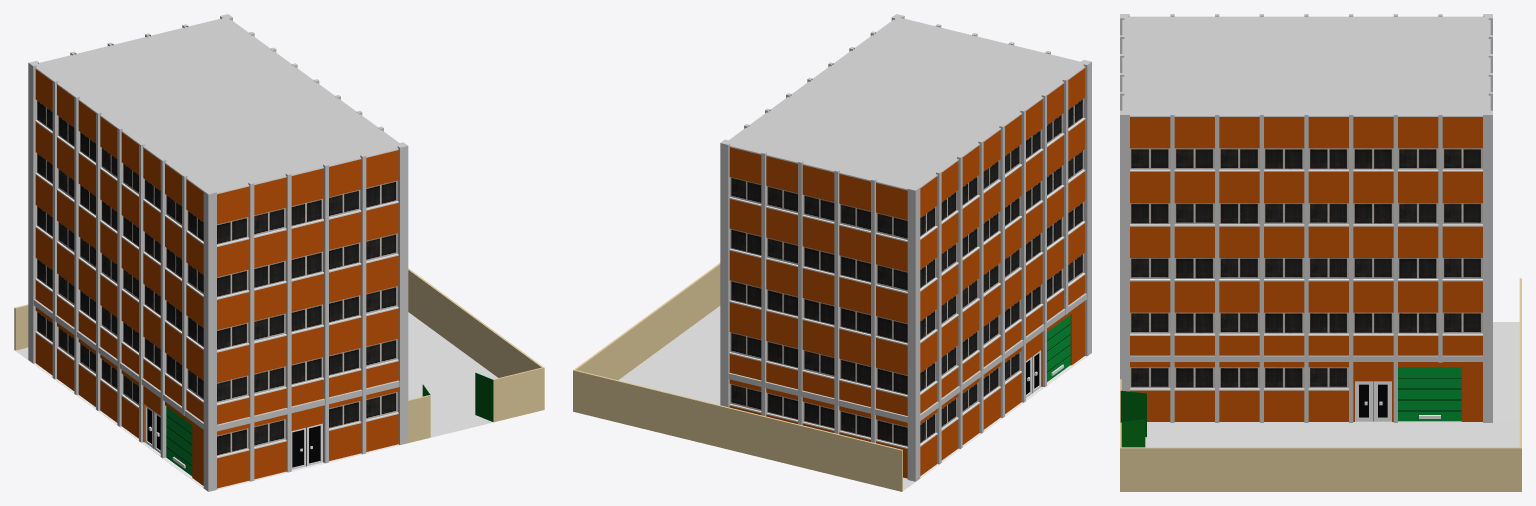
3 renders of one model, left to right at view 1: azimuth 30°, elevation 25°; view 2: azimuth 150°, elevation 25°; view 3: azimuth 270°, elevation 25°, orthographic. The views are drawn at different scales.
Visible parts, largest first — view 1: EB-004; view 2: EB-004; view 3: EB-004.
Boxes of the visible parts, x1,y1,x2,y2 form: EB-004: (14, 14, 544, 491); EB-004: (573, 14, 1091, 491); EB-004: (1120, 14, 1521, 491).
Size of what is drawn, in the model's own units: 19.98 by 16.9 by 19.98.
